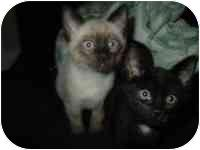siamese: (59, 1, 137, 81)
